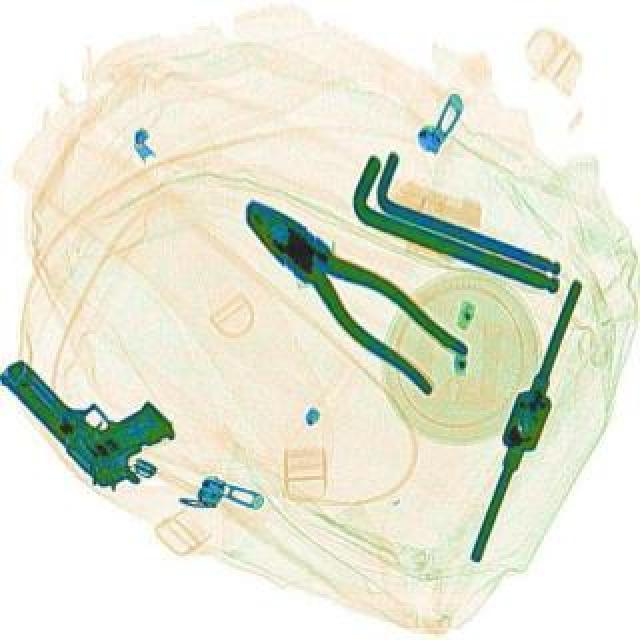gun: (0, 326, 188, 500)
wrench: (222, 176, 474, 398)
